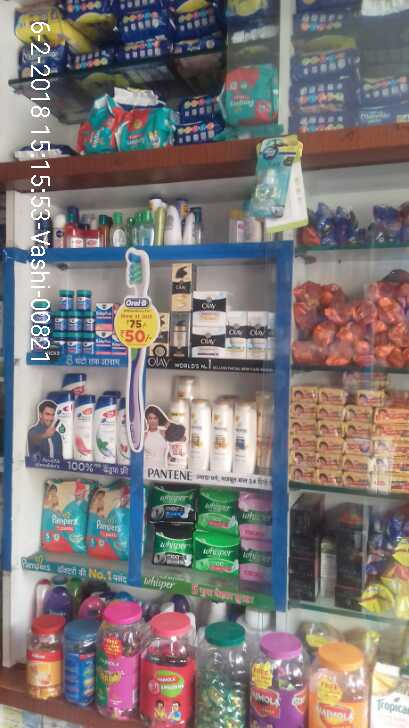beauty: (188, 398, 212, 472), (232, 401, 255, 475), (93, 396, 117, 462), (211, 395, 231, 474), (73, 394, 96, 460), (170, 262, 194, 312), (193, 290, 227, 325), (191, 324, 226, 357), (226, 309, 249, 356), (248, 310, 267, 358)
pharmacy: (37, 475, 91, 551), (87, 477, 130, 562), (196, 486, 239, 536), (148, 480, 195, 525), (191, 531, 237, 575), (150, 523, 194, 568), (57, 288, 74, 312), (74, 288, 92, 309), (65, 310, 83, 331), (67, 329, 83, 352)
